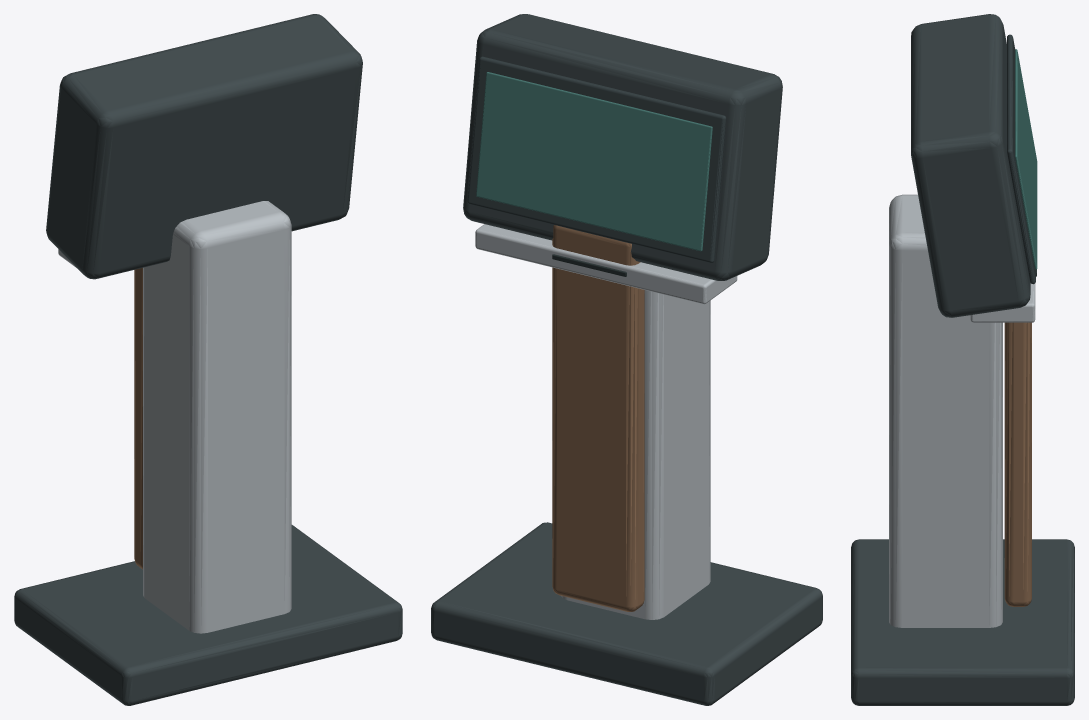
The model's file is visitor_kiosk.glb.
3 renders of one model, left to right at view 1: azimuth 30°, elevation 25°; view 2: azimuth 150°, elevation 25°; view 3: azimuth 270°, elevation 25°, orthographic. The views are drawn at different scales.
Visible parts, largest first — view 1: VisitorKiosk; view 2: VisitorKiosk; view 3: VisitorKiosk.
Boxes of the visible parts, x1,y1,x2,y2 form: VisitorKiosk: [14, 14, 402, 705]; VisitorKiosk: [431, 14, 822, 705]; VisitorKiosk: [851, 14, 1074, 705].
Size of the model in its own units: 0.613 by 1.21 by 0.432.
